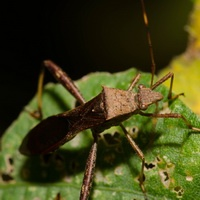insect: (124, 115, 199, 199), (9, 135, 86, 199), (90, 127, 143, 199), (76, 69, 135, 99), (174, 48, 199, 109), (43, 85, 73, 116)
